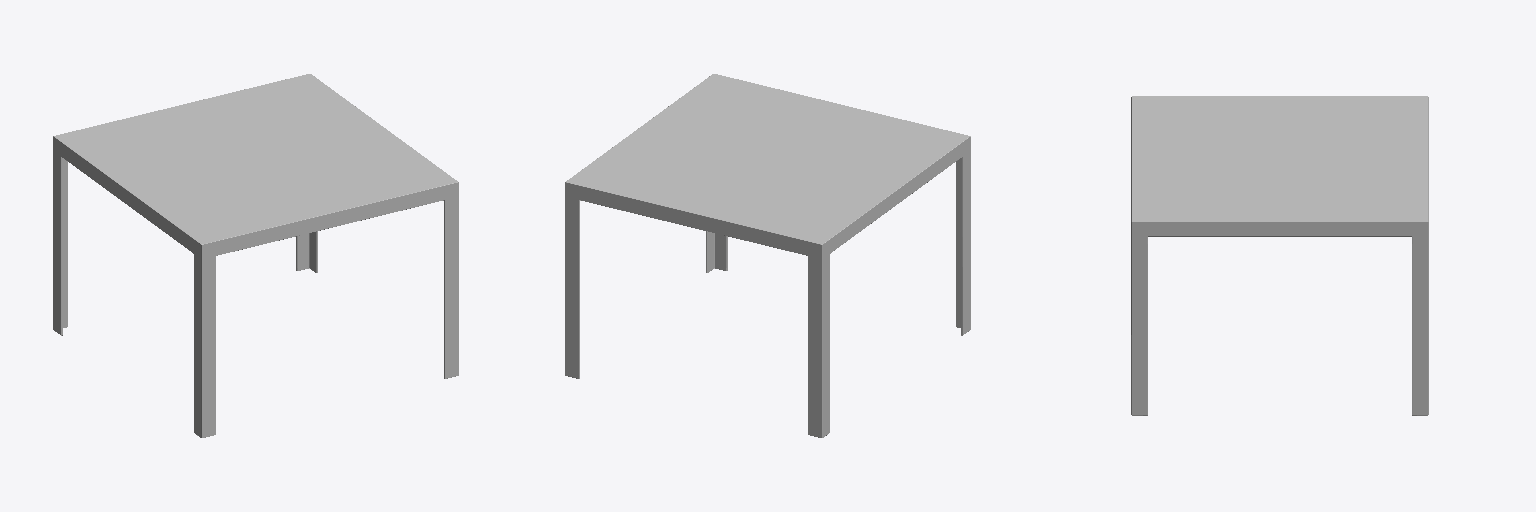
Rendered from invisible_table.obj.
The picture shows the model from 3 angles: view 1: azimuth 30°, elevation 25°; view 2: azimuth 150°, elevation 25°; view 3: azimuth 270°, elevation 25°; orthographic projection.
Visible parts, largest first — view 1: Obj_000001_Obj_000001.001; view 2: Obj_000001_Obj_000001.001; view 3: Obj_000001_Obj_000001.001.
Boxes of the visible parts, box(x1,y1,x2,y2) form: Obj_000001_Obj_000001.001: box(53, 74, 458, 437); Obj_000001_Obj_000001.001: box(565, 74, 970, 437); Obj_000001_Obj_000001.001: box(1131, 96, 1428, 415).
Bounding box in the file's own units: 1 × 0.72 × 1.